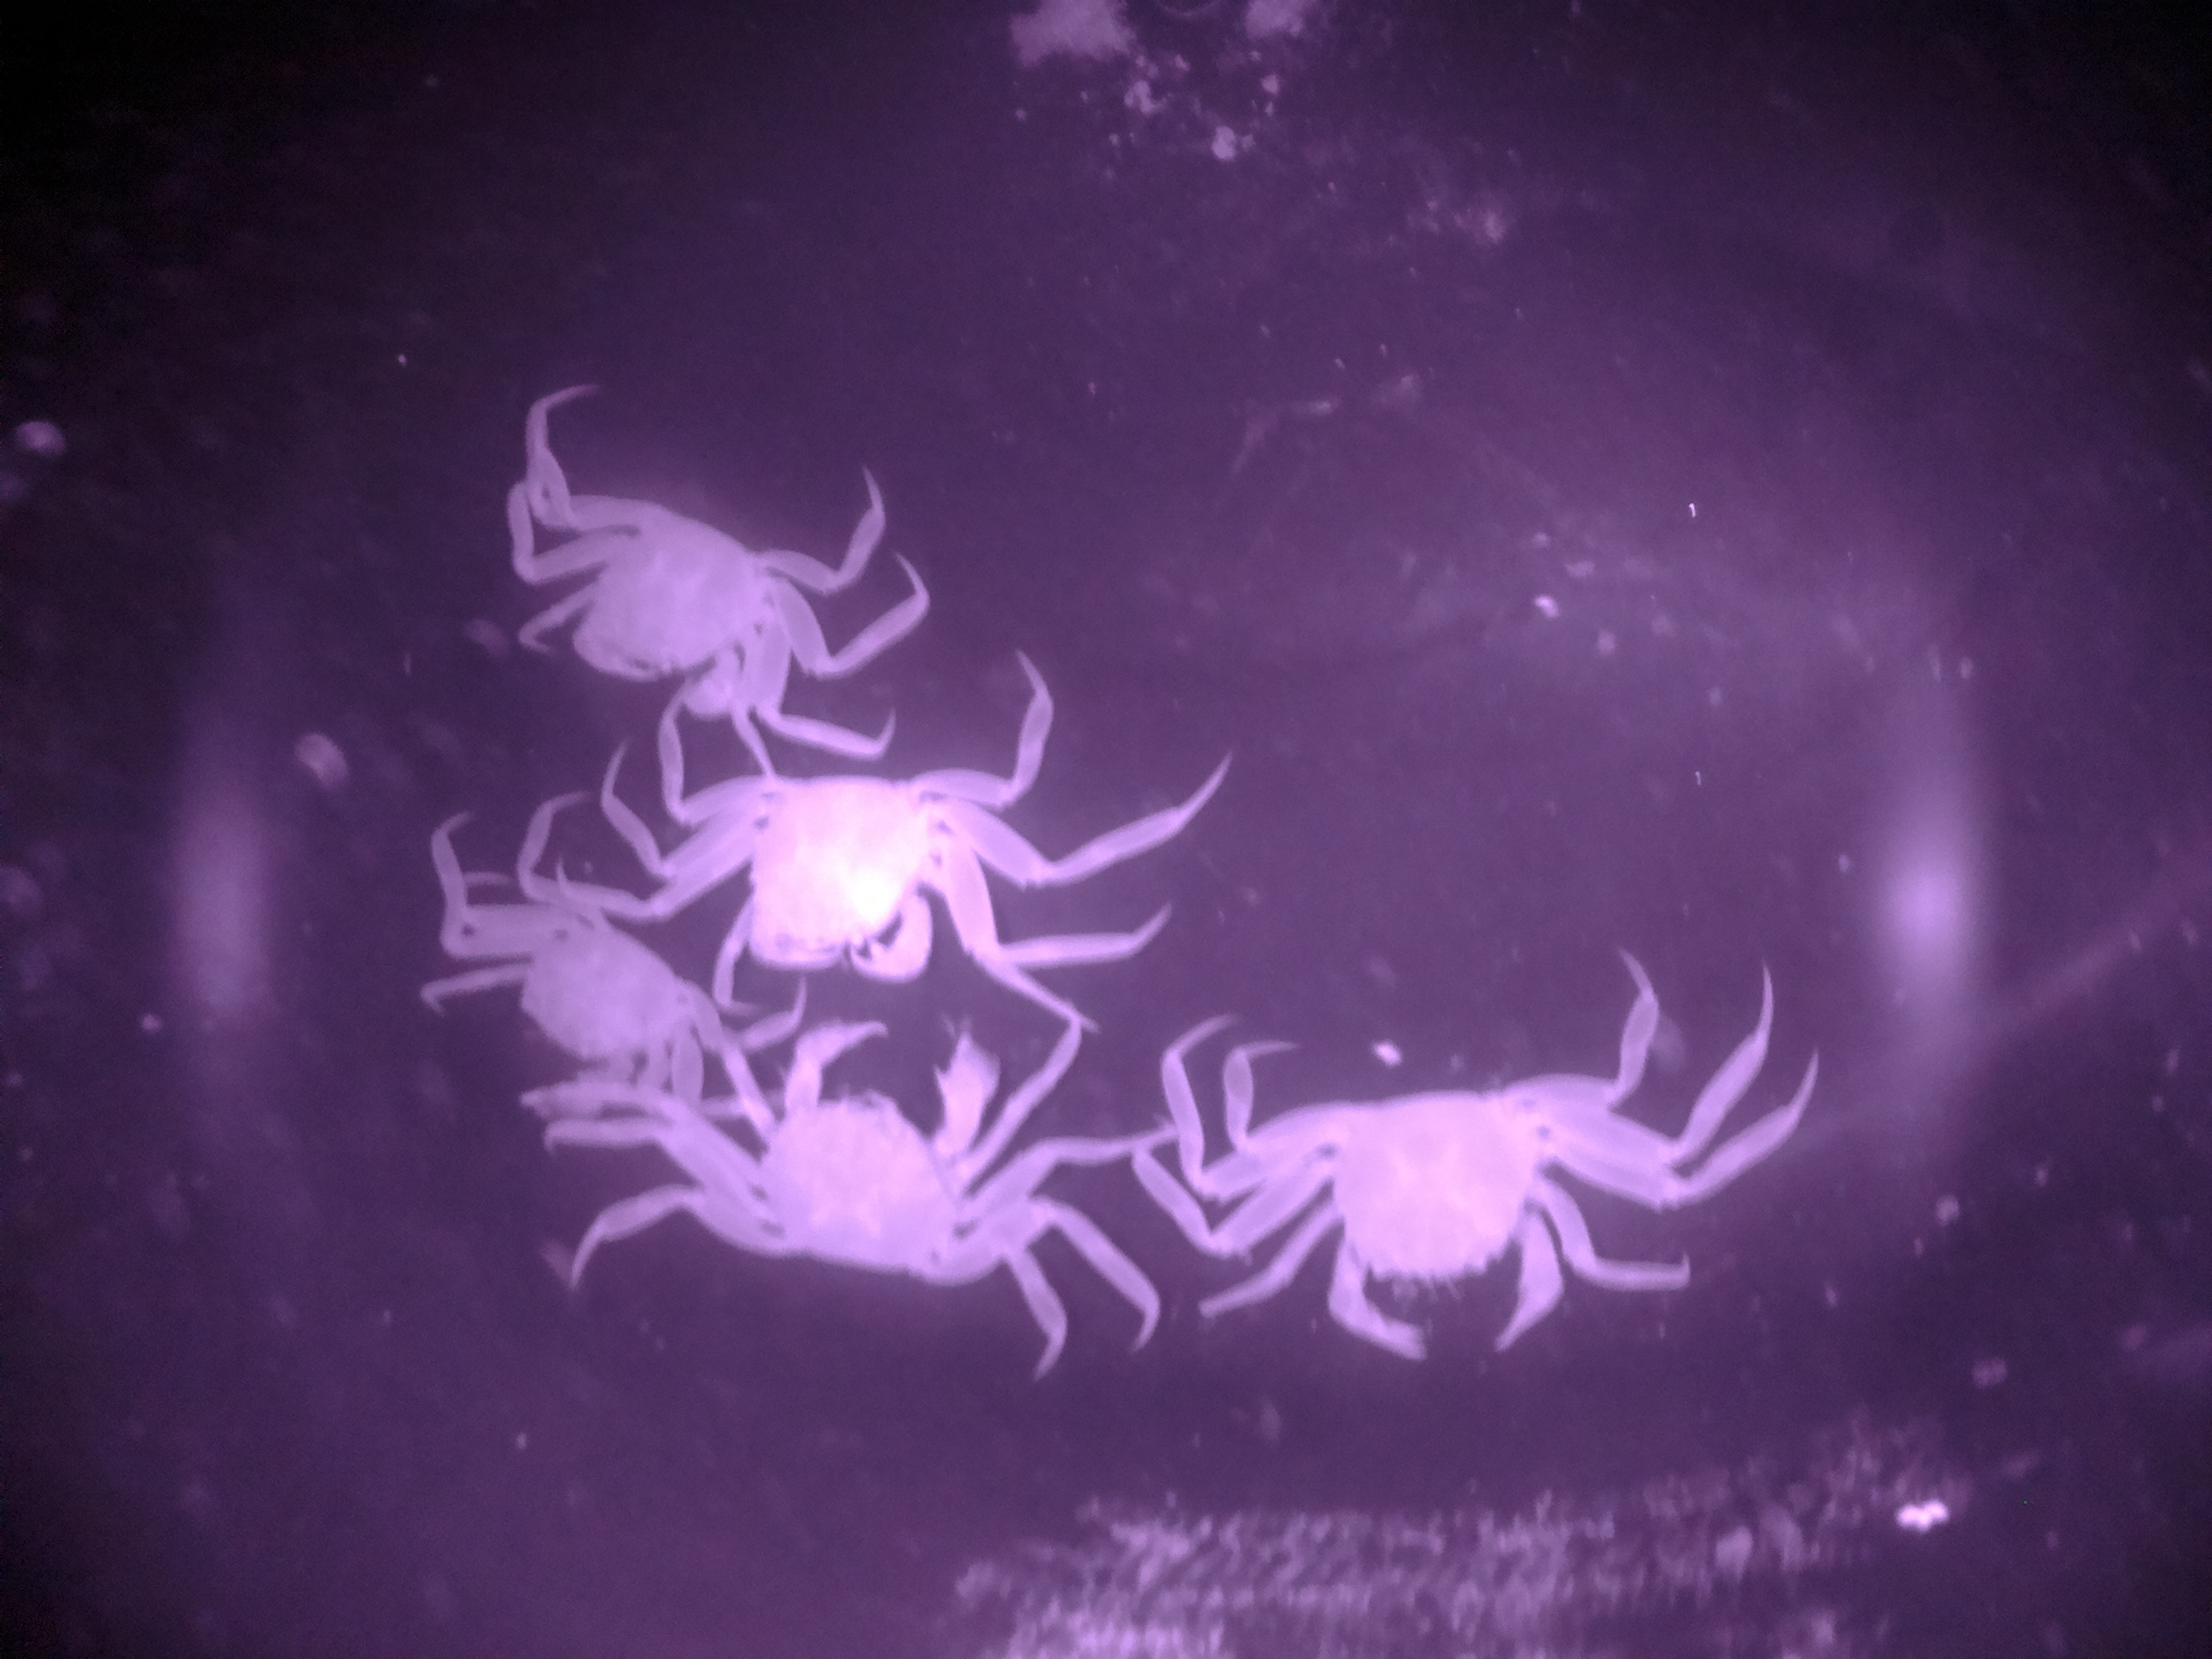Crab: (1231, 1009, 1663, 1392), (524, 429, 866, 762), (704, 1011, 1092, 1291), (691, 735, 1043, 990), (484, 849, 754, 1098)
